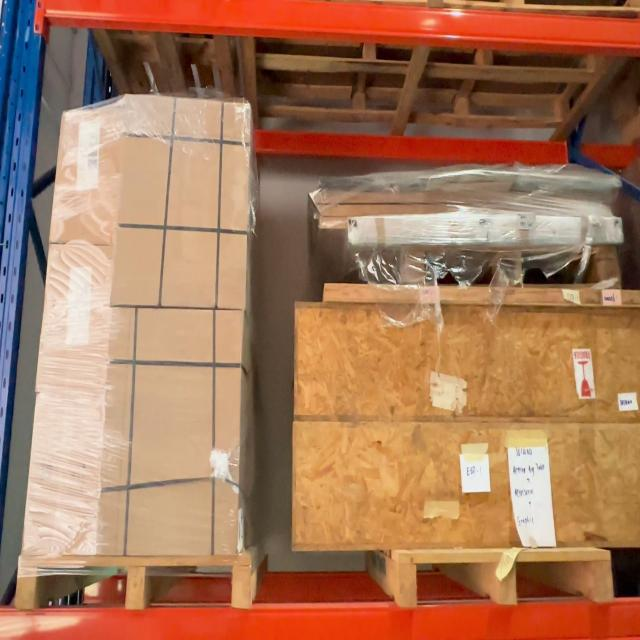box: (97, 308, 244, 554), (110, 91, 251, 311), (23, 385, 107, 554), (36, 243, 115, 393), (48, 106, 126, 246)
